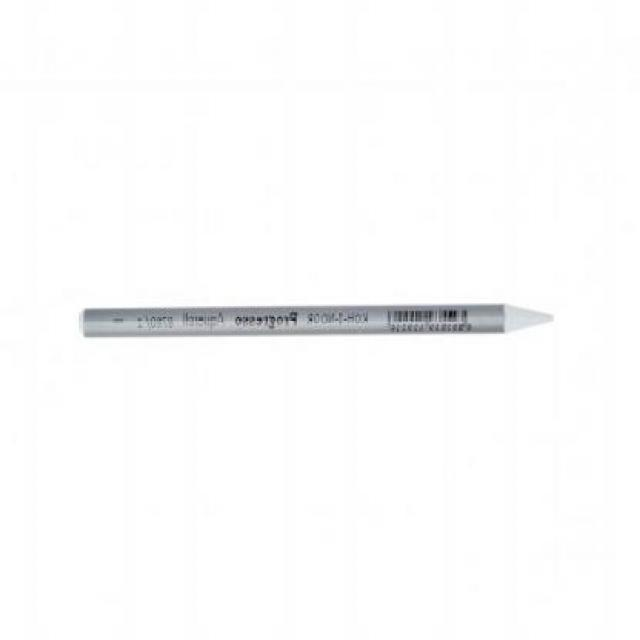pencil: (482, 292, 560, 344)
